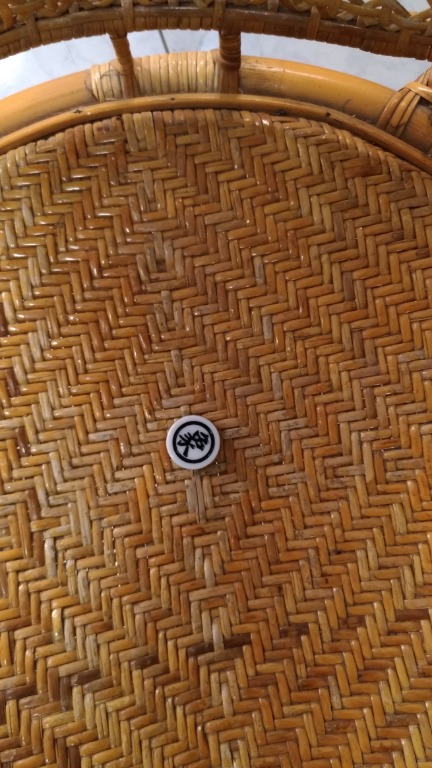b-elephant: (152, 409, 244, 484)
